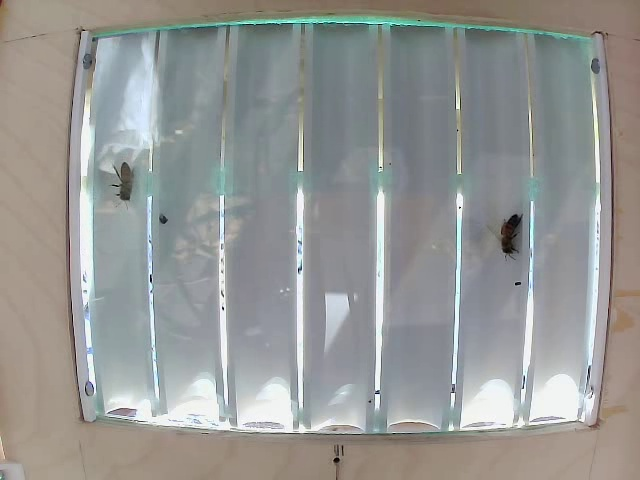bee: (494, 208, 538, 256), (114, 164, 153, 207)
